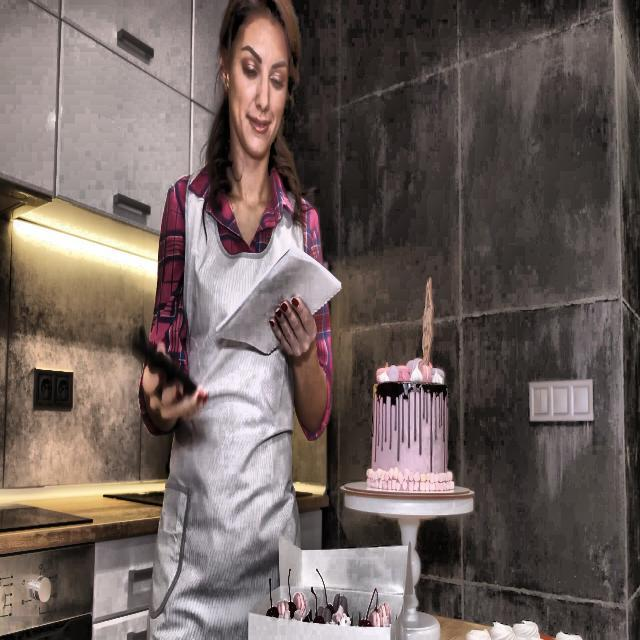Phone: (132, 338, 197, 396)
